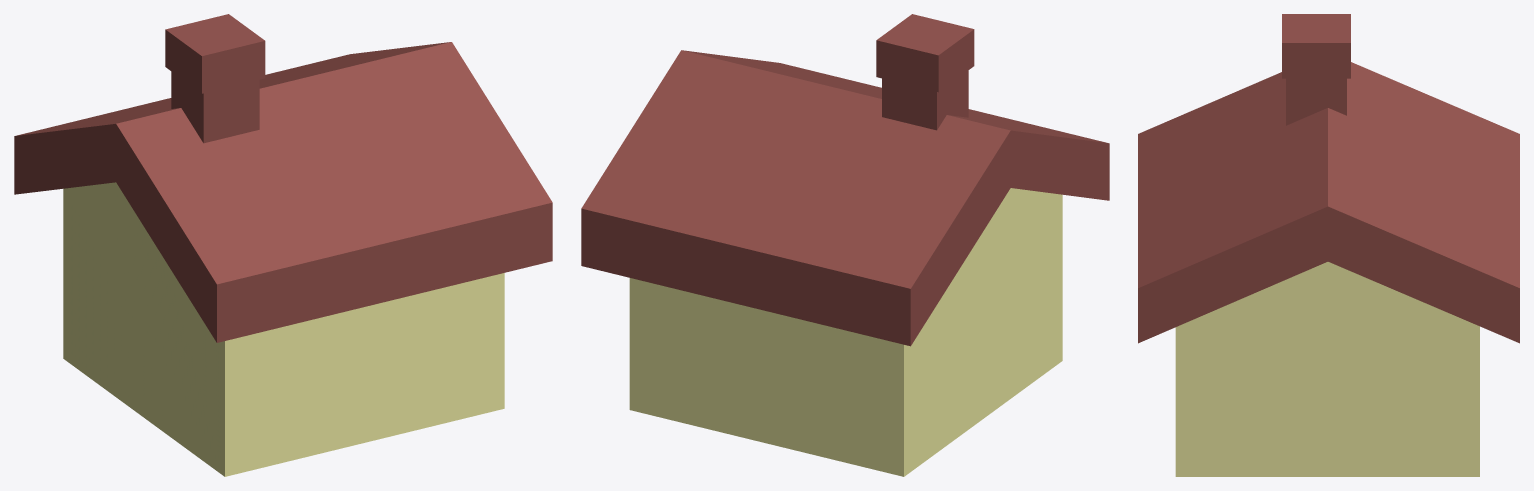
File: house4.glb
The picture shows the model from 3 angles, left to right: view 1: azimuth 30°, elevation 25°; view 2: azimuth 150°, elevation 25°; view 3: azimuth 270°, elevation 25°; orthographic projection. The views are drawn at different scales.
Visible parts, largest first — view 1: Body.003, Cube.003, Cube.005, Cube.004; view 2: Body.003, Cube.003, Cube.005, Cube.004; view 3: Body.003, Cube.003, Cube.005, Cube.004.
Boxes of the visible parts, x1,y1,x2,y2 form: Body.003: (14, 42, 552, 342); Cube.003: (63, 182, 504, 476); Cube.005: (165, 14, 265, 93); Cube.004: (171, 71, 259, 143); Body.003: (581, 50, 1109, 346); Cube.003: (629, 188, 1062, 476); Cube.005: (876, 14, 974, 92); Cube.004: (882, 70, 968, 130); Body.003: (1138, 62, 1519, 343); Cube.003: (1175, 262, 1479, 476); Cube.005: (1282, 14, 1350, 78); Cube.004: (1286, 78, 1346, 125).
Bounding box in the file's own units: 2.4 × 2.54 × 2.51.
